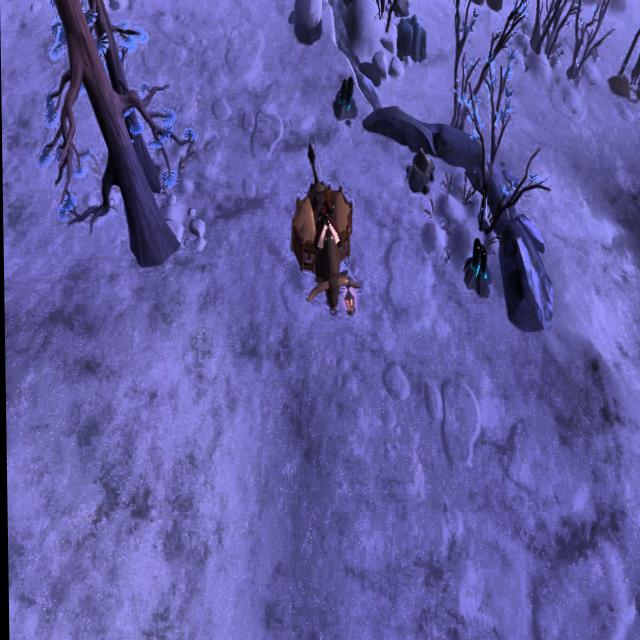ore_t4: (468, 231, 487, 281), (336, 74, 354, 111)
rock_t4: (396, 11, 429, 63)
